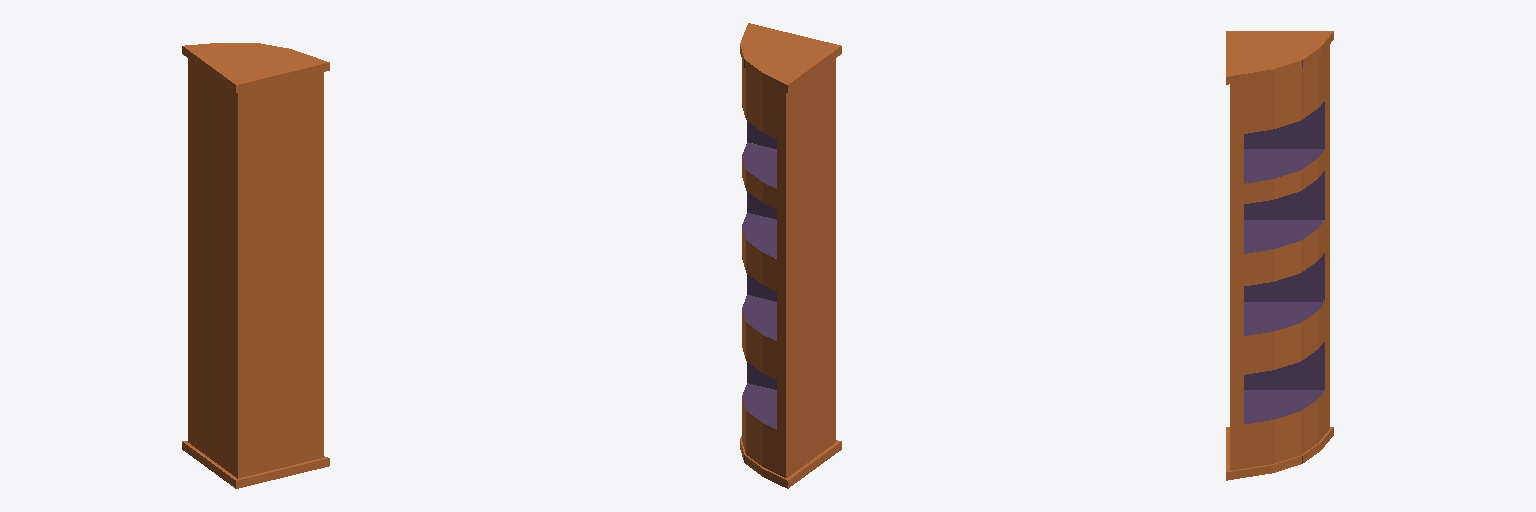
3 views of the same model, side by side, from view 1: azimuth 30°, elevation 25°; view 2: azimuth 150°, elevation 25°; view 3: azimuth 270°, elevation 25° (orthographic).
Visible parts, largest first — view 1: Cubo.001_Cubo.005; view 2: Cubo.001_Cubo.005; view 3: Cubo.001_Cubo.005.
Part boxes in pixels (left/top/right/bottom): Cubo.001_Cubo.005: left=182, top=43, right=329, bottom=488; Cubo.001_Cubo.005: left=740, top=23, right=841, bottom=488; Cubo.001_Cubo.005: left=1226, top=31, right=1333, bottom=480.
Size of the model in its own units: 6.5 by 26.8 by 6.5.
Materials: 1 (1 with a texture image).